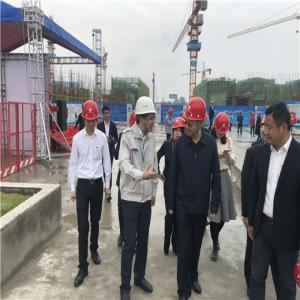none: (264, 104, 292, 145), (102, 105, 113, 122)
red: (184, 98, 208, 138), (82, 100, 100, 134), (213, 114, 231, 140), (172, 118, 186, 142), (168, 109, 174, 116), (211, 101, 215, 107), (258, 112, 261, 118), (252, 112, 255, 118), (240, 110, 243, 115), (230, 112, 233, 116)
white: (135, 97, 156, 133)
